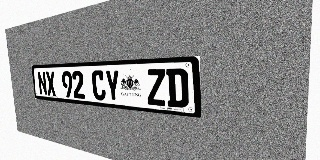2: (72, 71, 85, 99)
9: (61, 71, 74, 98)
C: (91, 70, 106, 101)
D: (166, 68, 189, 108)
N: (37, 71, 47, 95)
X: (45, 71, 56, 96)
Y: (105, 70, 121, 102)
Z: (146, 69, 167, 106)
